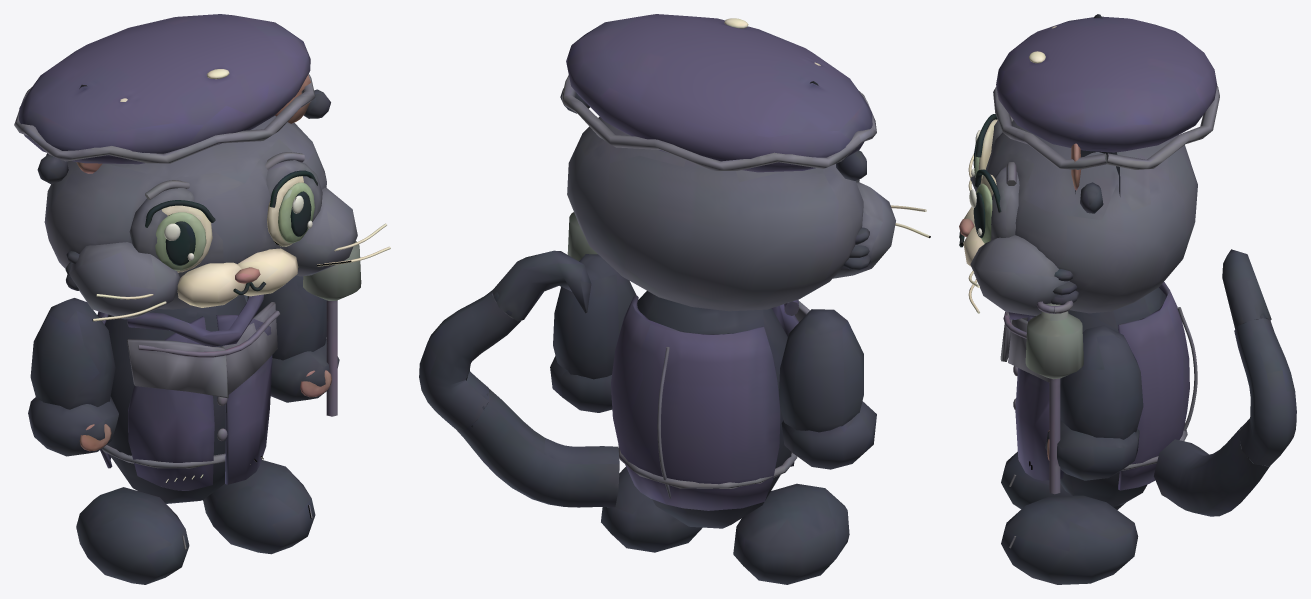
File: inkcap.glb
The picture shows the model from 3 angles, left to right: view 1: azimuth 30°, elevation 25°; view 2: azimuth 150°, elevation 25°; view 3: azimuth 270°, elevation 25°; orthographic projection. The views are drawn at different scales.
Visible parts, largest first — view 1: cheek-head, pear-body, arm, hind-paw, hind-paw.001, porcelain-eye, arm.001, ink-wand-shaft, rounded-ear-L, rounded-ear-R, nose; view 2: cheek-head, pear-body, arm, tail-root, hind-paw, arm.001, tail-mid, tail-tip, hind-paw.001, ink-wand-shaft, rounded-ear-L; view 3: cheek-head, pear-body, arm.001, hind-paw.001, tail-mid, tail-root, ink-wand-shaft, tail-tip, porcelain-eye, hind-paw, rounded-ear-R.
Part boxes in pixels (box(x1,y1,x2,y2)): cheek-head: box(14, 14, 390, 321); pear-body: box(97, 294, 279, 503); arm: box(28, 298, 118, 456); hind-paw: box(76, 487, 189, 584); hind-paw.001: box(203, 460, 315, 554); porcelain-eye: box(145, 170, 317, 272); arm.001: box(247, 275, 339, 402); ink-wand-shaft: box(303, 241, 361, 416); rounded-ear-L: box(37, 84, 102, 184); rounded-ear-R: box(275, 75, 330, 123); nose: box(233, 267, 265, 295); cheek-head: box(561, 14, 930, 311); pear-body: box(611, 291, 809, 528); arm: box(779, 309, 876, 469); tail-root: box(455, 389, 619, 507); hind-paw: box(733, 483, 849, 584); arm.001: box(550, 254, 636, 412); tail-mid: box(419, 290, 520, 429); tail-tip: box(492, 250, 591, 321); hind-paw.001: box(601, 467, 702, 552); ink-wand-shaft: box(567, 212, 597, 261); rounded-ear-L: box(810, 81, 866, 180); cheek-head: box(963, 16, 1219, 315); pear-body: box(1000, 282, 1197, 506); arm.001: box(1045, 325, 1143, 480); hind-paw.001: box(1001, 495, 1138, 584); tail-mid: box(1234, 318, 1296, 466); tail-root: box(1154, 423, 1270, 516); ink-wand-shaft: box(1025, 300, 1083, 494); tail-tip: box(1222, 249, 1271, 329); porcelain-eye: box(969, 114, 1001, 243); hind-paw: box(1001, 451, 1125, 509); rounded-ear-R: box(1071, 143, 1120, 213).
Size of the model in its own units: 0.8578 by 1.22 by 0.7452.
Materials: 1 (1 with a texture image).
